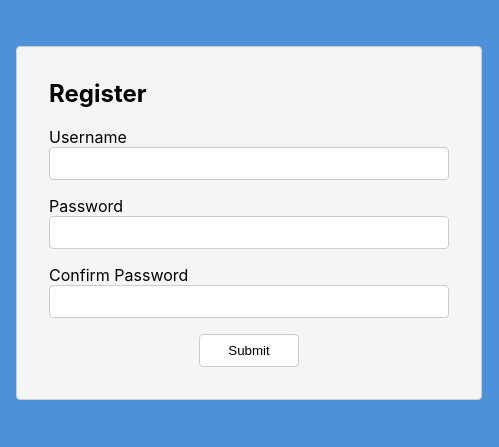
Scenario: displays errors when form is submitted with empty fields
Click the button "Submit": {"x": 249, "y": 351} [199, 334, 299, 368]
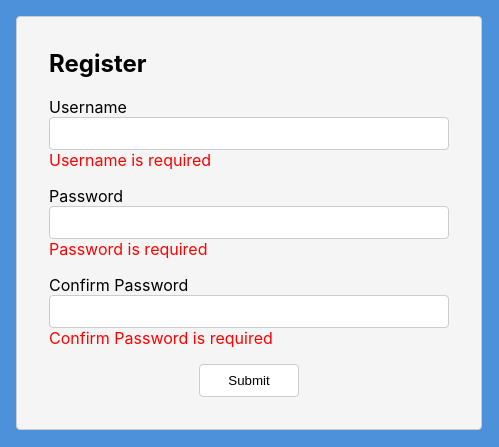
Result: the text "Username is required" is shown at [49, 150, 211, 170]
Result: the text "Password is required" is shown at [49, 240, 208, 260]
Result: the text "Confirm Password is required" is shown at [49, 328, 273, 348]
